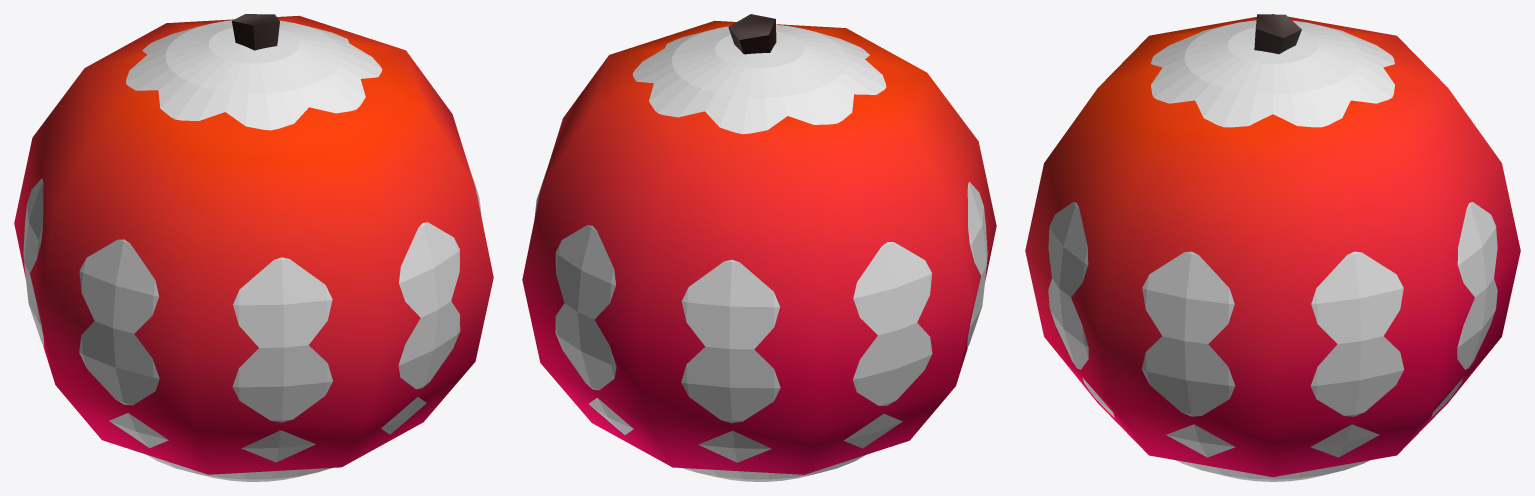
Rendered from Asset_Apple.glb.
The picture shows the model from 3 angles, left to right: view 1: azimuth 30°, elevation 25°; view 2: azimuth 150°, elevation 25°; view 3: azimuth 270°, elevation 25°; orthographic projection.
Visible parts, largest first — view 1: Mesh, Sphere; view 2: Mesh, Sphere; view 3: Mesh, Sphere.
Part boxes in pixels (x1,y1,x2,y2): Mesh: (14,14,493,474); Sphere: (23,20,481,481); Mesh: (522,14,996,474); Sphere: (534,24,987,481); Mesh: (1025,14,1520,476); Sphere: (1048,20,1497,481).
Size of the model in its own units: 2 by 1.97 by 2.
Materials: 1 (1 with a texture image).
